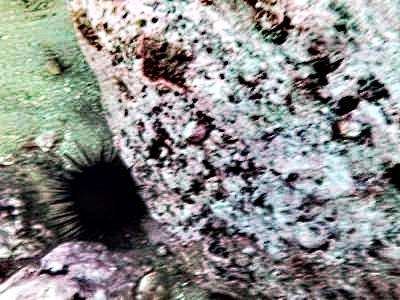urchin: (43, 143, 153, 243)
